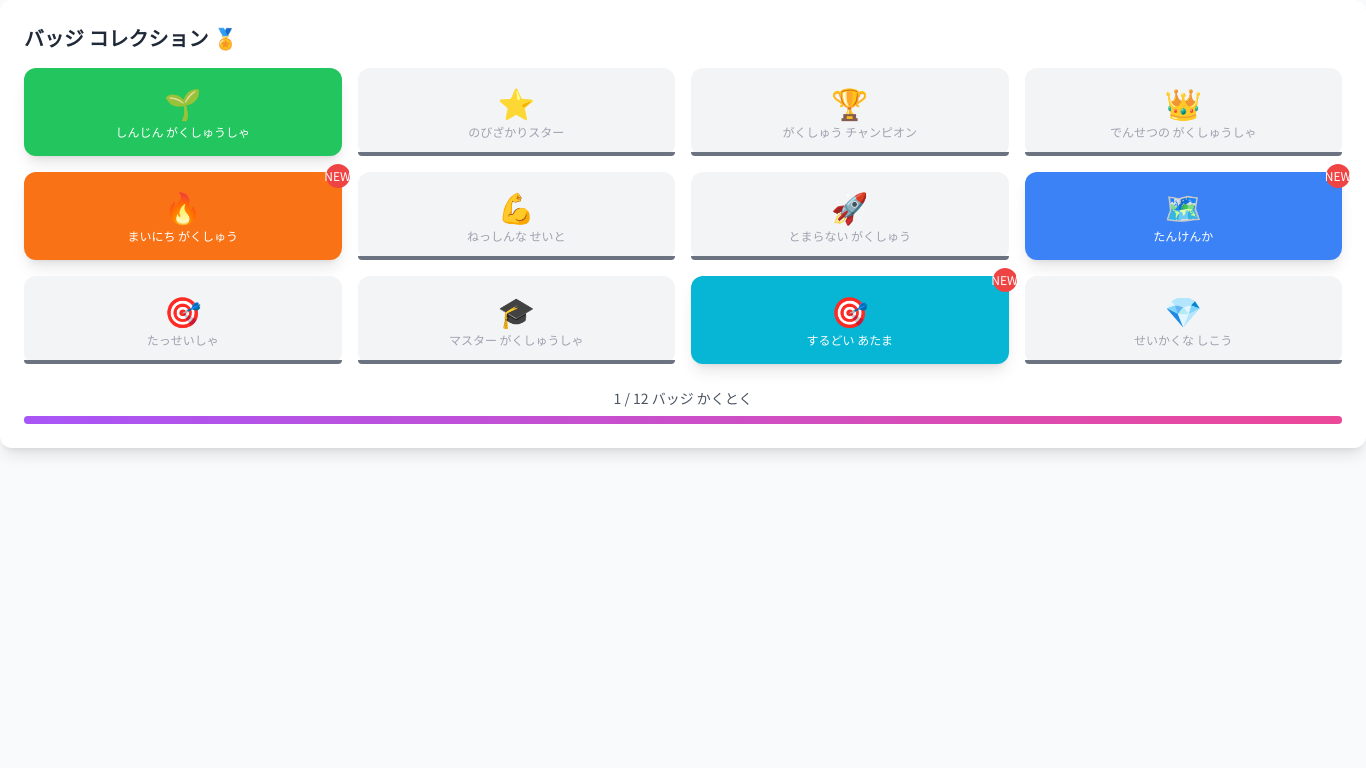
Test case: BadgeReward › shows badge detail modal when clicked
The width and height of the screenshot is (1366, 768).
Click the button "🌱 しんじん がくしゅうしゃ": [183, 112] box [24,68,342,156]
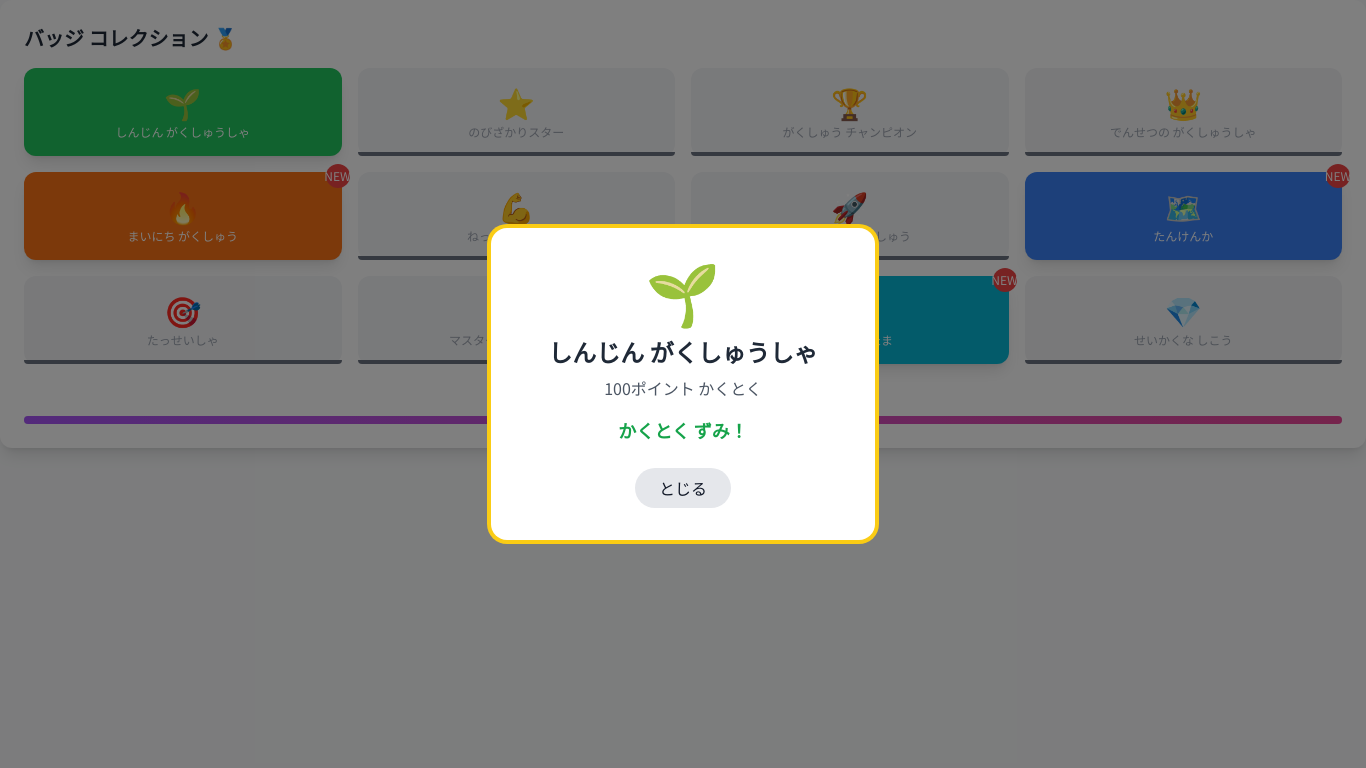
Expected: the text "100ポイント かくとく" is shown, [604,376,762,400]
Expected: the text "かくとく ずみ！" is shown, [618,417,748,443]
